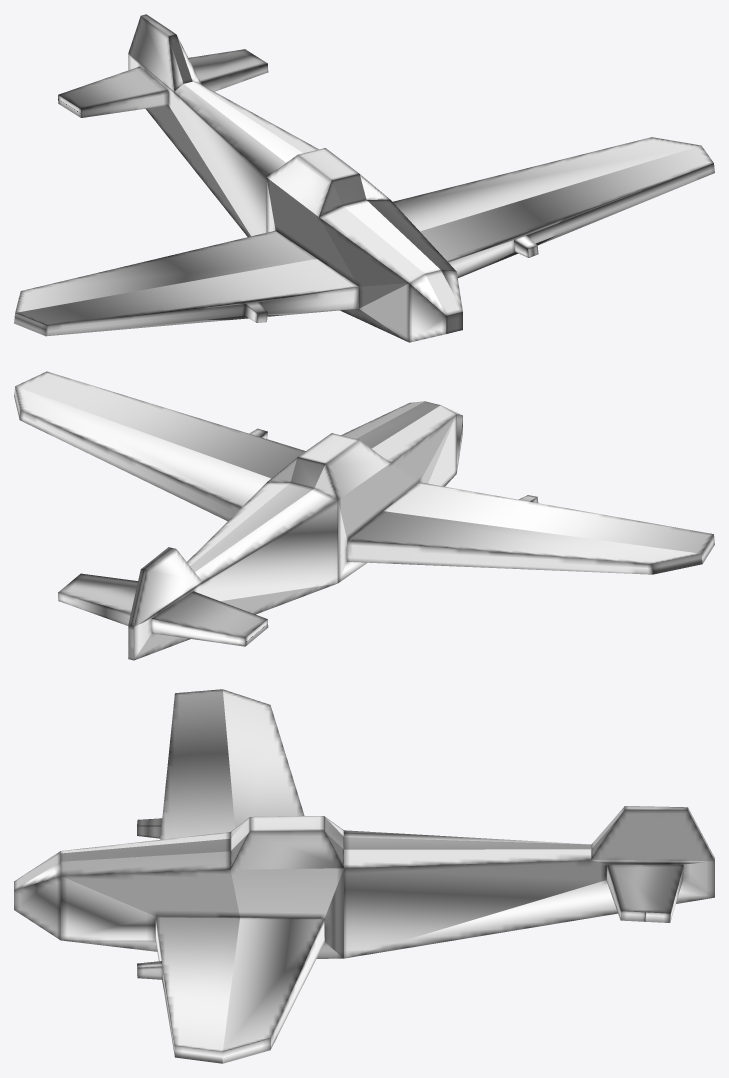
File: Airplane-01.fbx
The picture shows the model from 3 angles, top to bottom: view 1: azimuth 30°, elevation 25°; view 2: azimuth 150°, elevation 25°; view 3: azimuth 270°, elevation 25°; orthographic projection. The views are drawn at different scales.
Parts seen in each view (by area): view 1: Airplane_01; view 2: Airplane_01; view 3: Airplane_01.
Part boxes in pixels (box(x1,y1,x2,y2)): Airplane_01: box(14, 14, 714, 342); Airplane_01: box(14, 371, 714, 660); Airplane_01: box(14, 689, 714, 1063).
Bounding box in the file's own units: 2.58 × 0.4416 × 2.1.
